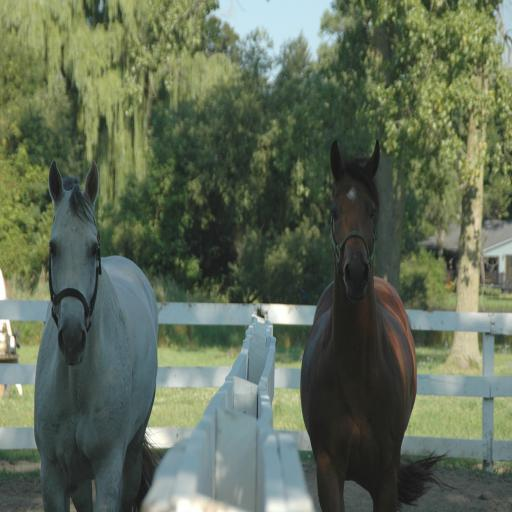horse: (299, 138, 452, 510), (34, 160, 166, 512)
